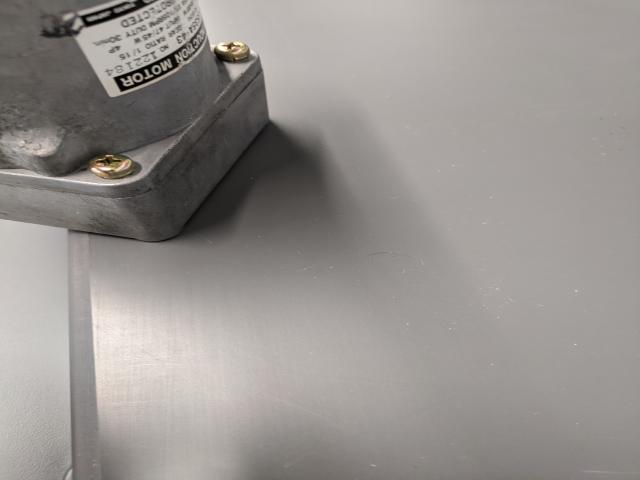CRS: (89, 151, 135, 175), (213, 41, 250, 58)
